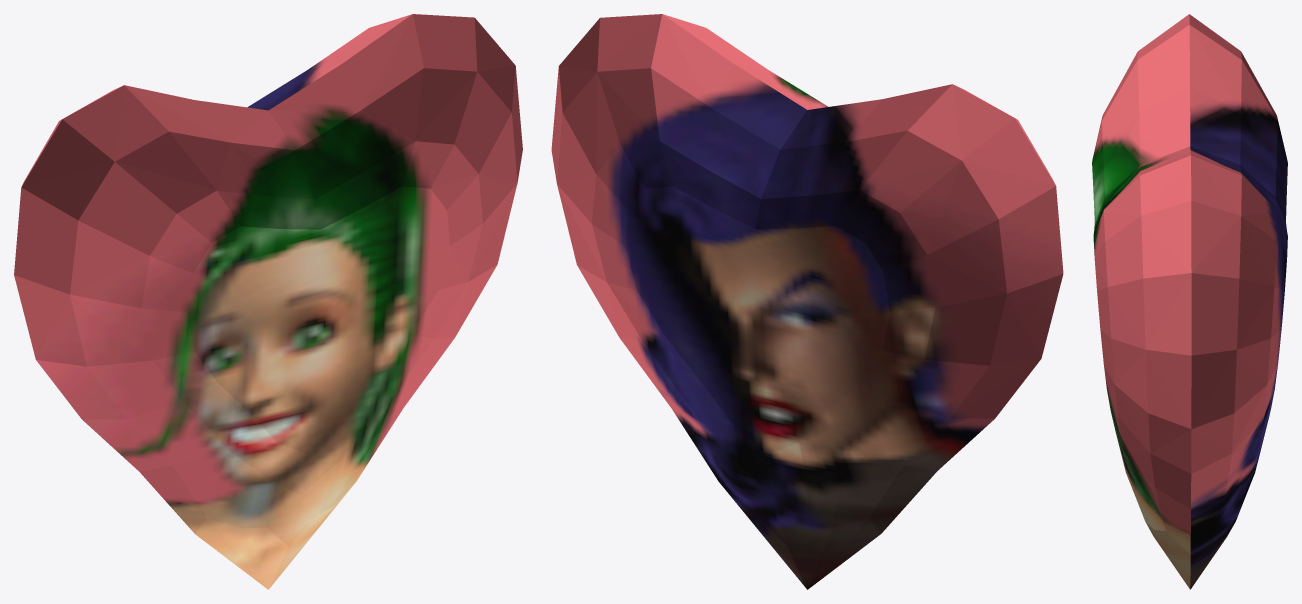
The model's file is SAVEFACE.ICO.obj.
The picture shows the model from 3 angles, left to right: view 1: azimuth 30°, elevation 25°; view 2: azimuth 150°, elevation 25°; view 3: azimuth 270°, elevation 25°; orthographic projection. The views are drawn at different scales.
Size of the model in its own units: 4.19 by 4.24 by 1.51.
1 material, 1 textured.
